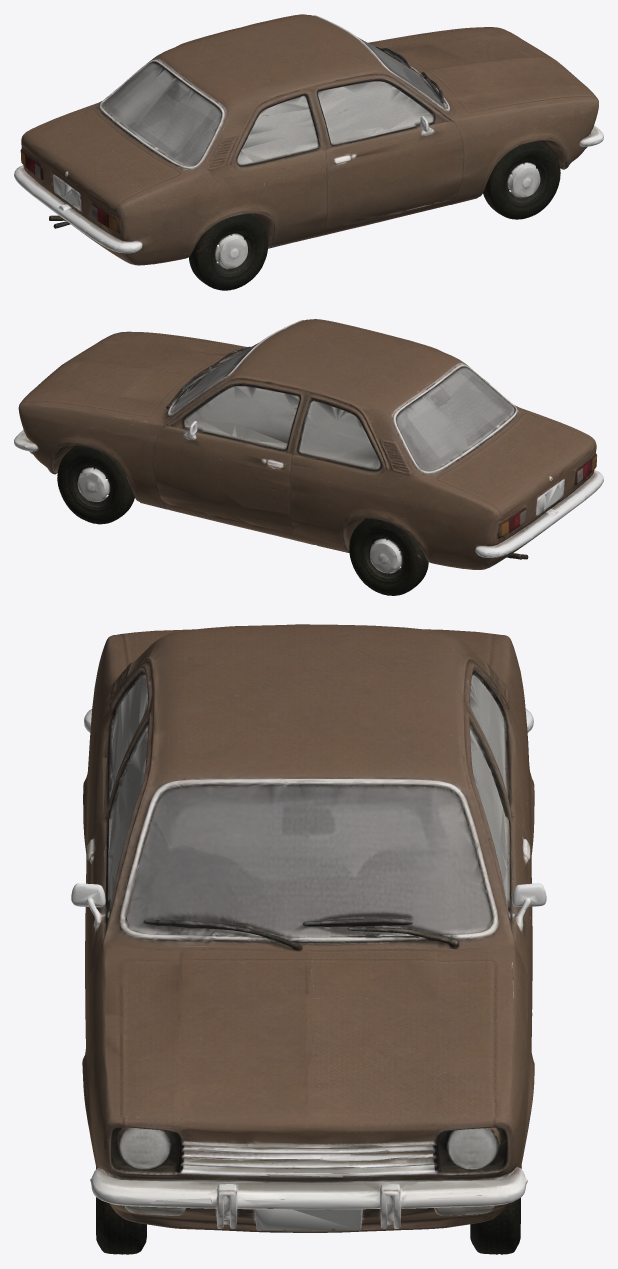
Rendered from lambari__01a169ed.glb.
3 views of the same model, one above another, from view 1: azimuth 30°, elevation 25°; view 2: azimuth 150°, elevation 25°; view 3: azimuth 270°, elevation 25° (orthographic). The views are drawn at different scales.
Parts seen in each view (by area): view 1: lambari__01a169ed; view 2: lambari__01a169ed; view 3: lambari__01a169ed.
Boxes of the visible parts, x1,y1,x2,y2 form: lambari__01a169ed: (14, 14, 603, 290); lambari__01a169ed: (14, 319, 603, 595); lambari__01a169ed: (71, 624, 546, 1254).
Size of the model in its own units: 4.12 by 1.42 by 1.69.
Materials: 1 (1 with a texture image).
